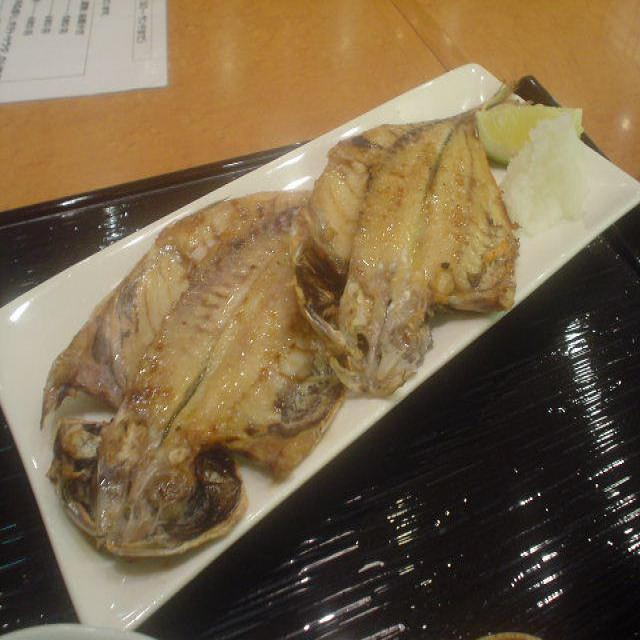熟制海鲜: (53, 107, 520, 565)
